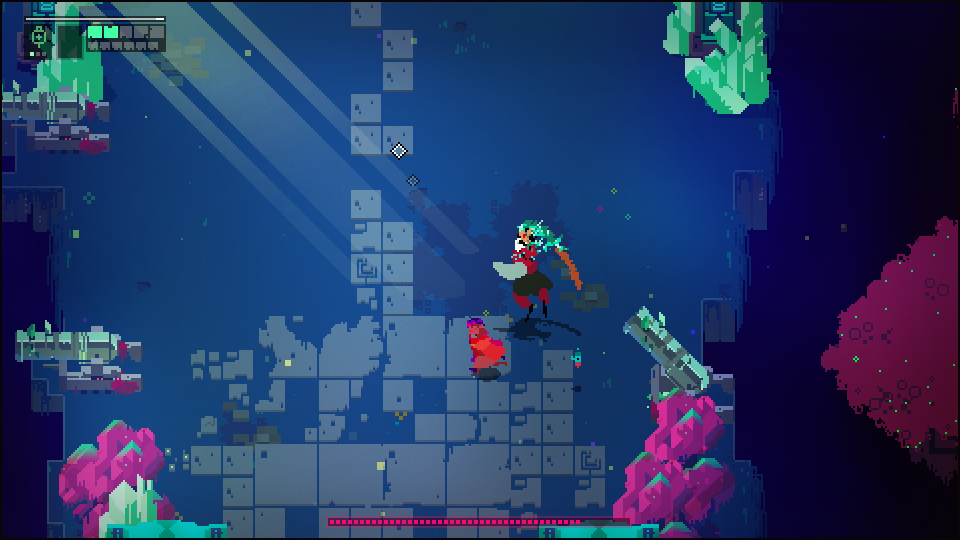hanged_man: (491, 212, 587, 325)
player: (465, 319, 511, 382)
